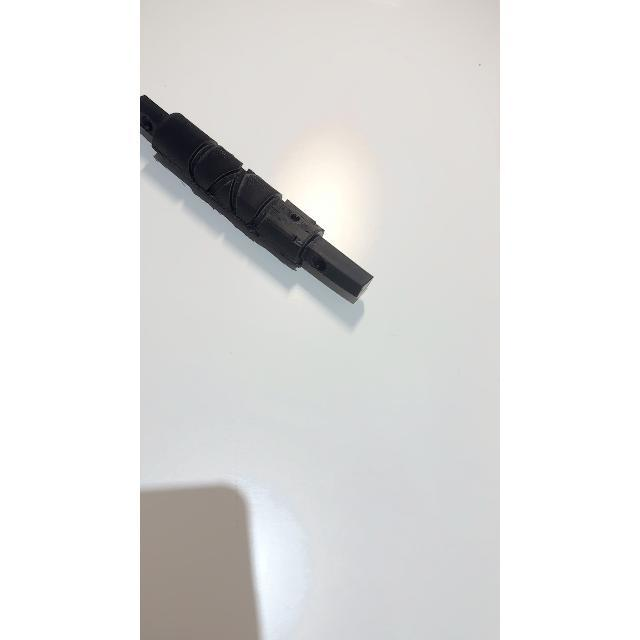Pieza1: (142, 75, 378, 312)
